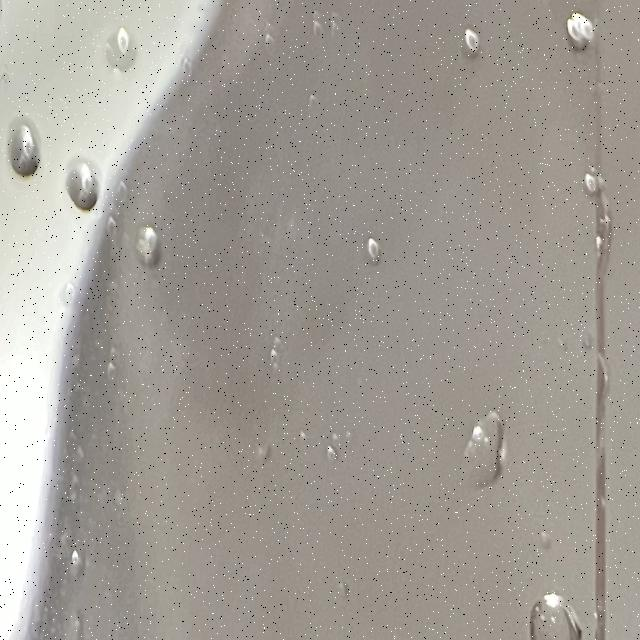raindrop: (446, 397, 536, 487), (9, 102, 56, 185), (513, 584, 586, 636), (60, 152, 118, 216), (125, 212, 176, 270), (450, 10, 496, 69), (97, 28, 142, 82), (556, 10, 601, 64), (260, 327, 300, 372), (359, 222, 397, 266), (62, 535, 92, 586), (570, 202, 575, 208)
